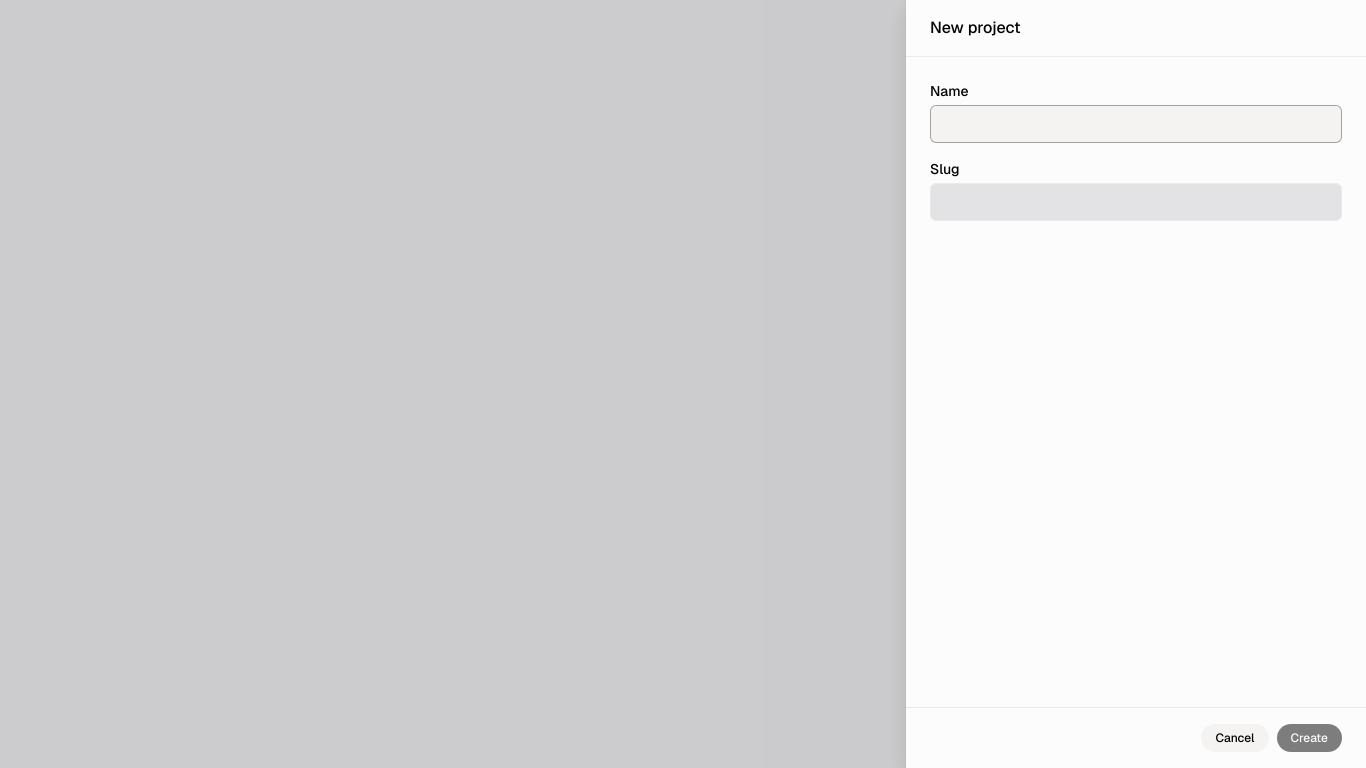
ProjectCreate › surfaces SLUG_CONFLICT as an inline field error, not a toast
Type "Spring" into the field labelled "Name" at coordinates (1136, 124), box [930,105,1342,142]
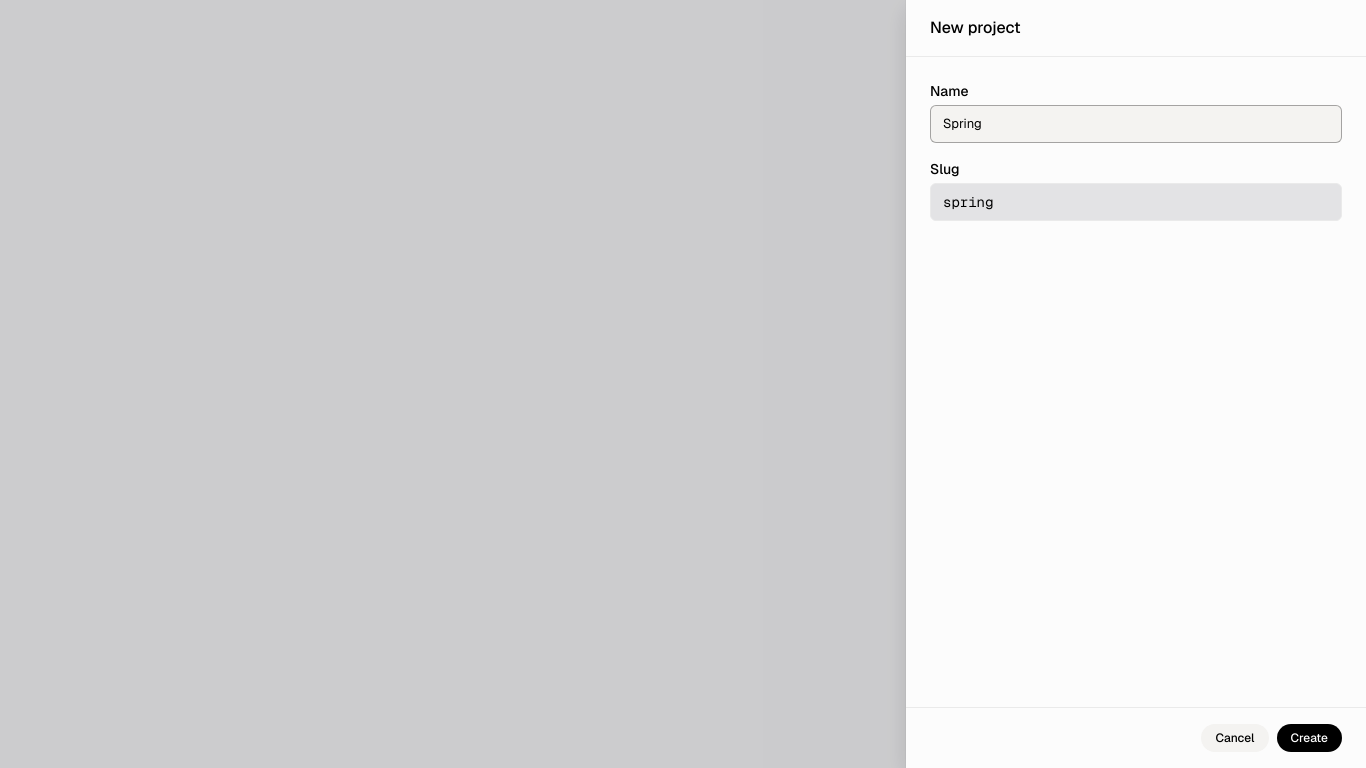
Click the button "Create" at coordinates (1309, 738), box [1276,724,1342,752]
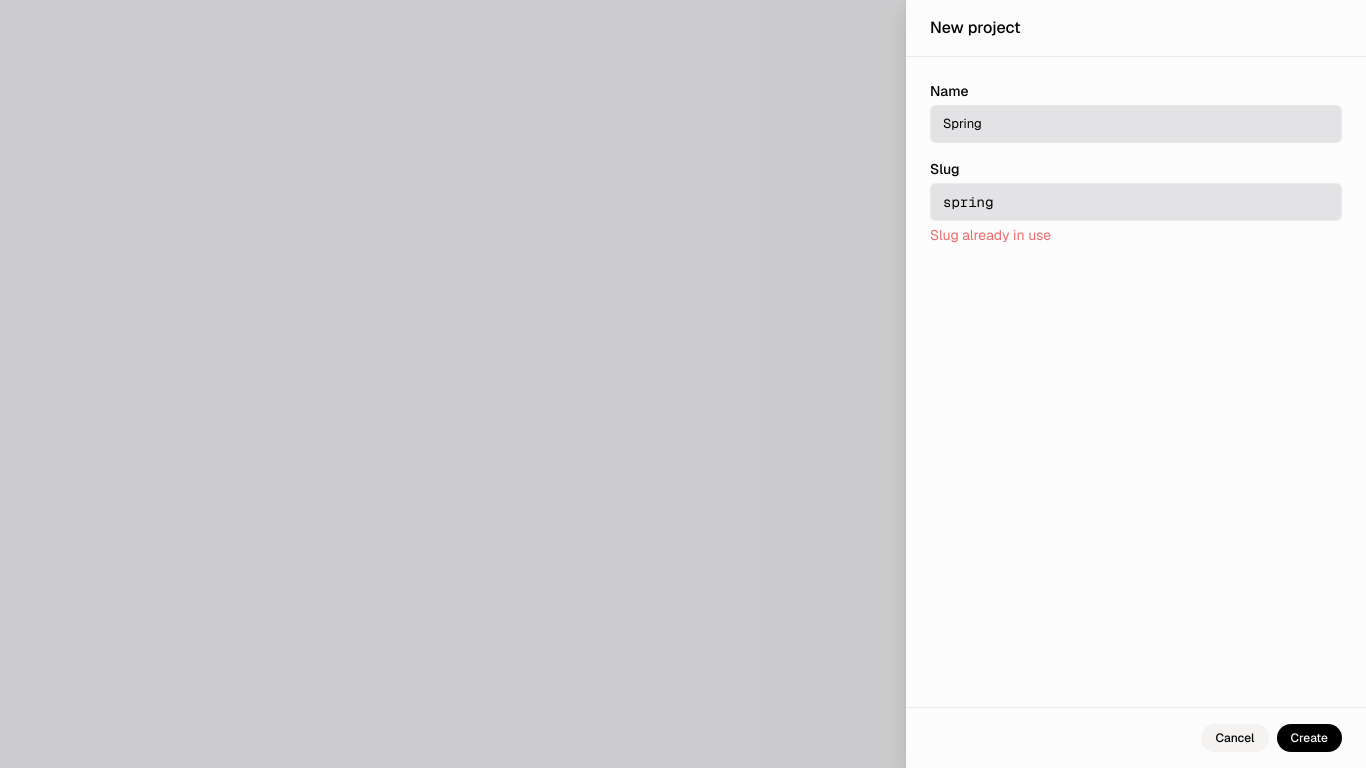
Now the text "Slug already in use" is shown, box [930,226,1051,244]
